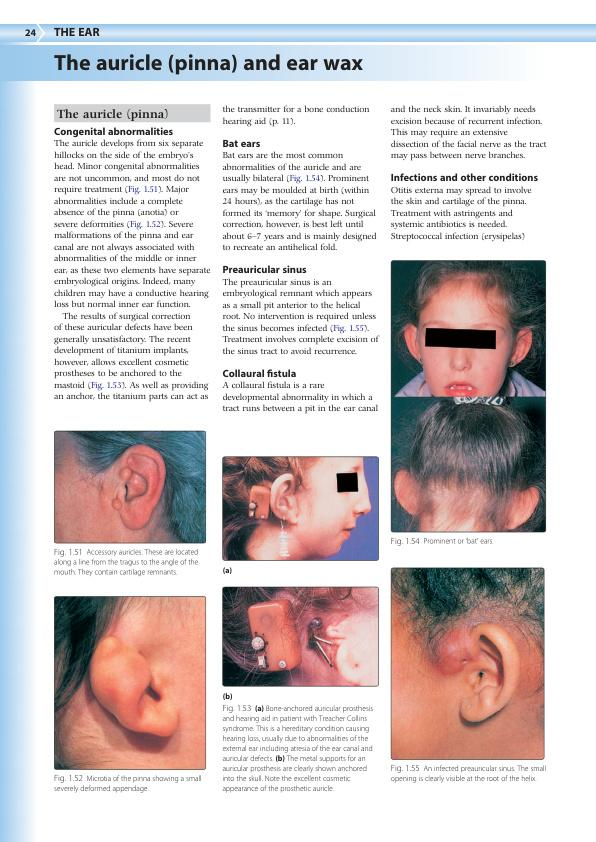caption: (222, 704, 373, 794), (53, 548, 199, 578), (390, 764, 547, 784), (53, 773, 201, 794), (390, 536, 495, 547), (222, 566, 233, 576), (222, 692, 233, 701)
chapter-heading: (50, 52, 366, 76)
header: (52, 26, 101, 38)
image: (390, 260, 547, 533), (390, 566, 546, 761), (54, 595, 206, 771), (53, 430, 207, 545), (221, 455, 379, 562), (221, 586, 379, 687)
section-heading: (56, 108, 169, 122)
sub-section-heading: (389, 172, 539, 183), (53, 126, 174, 138), (222, 264, 308, 274), (222, 368, 297, 379), (222, 138, 261, 149)
text: (53, 139, 210, 403), (221, 151, 378, 251), (221, 277, 381, 356), (389, 104, 548, 162), (389, 186, 532, 243), (222, 380, 380, 415), (222, 104, 370, 128)
